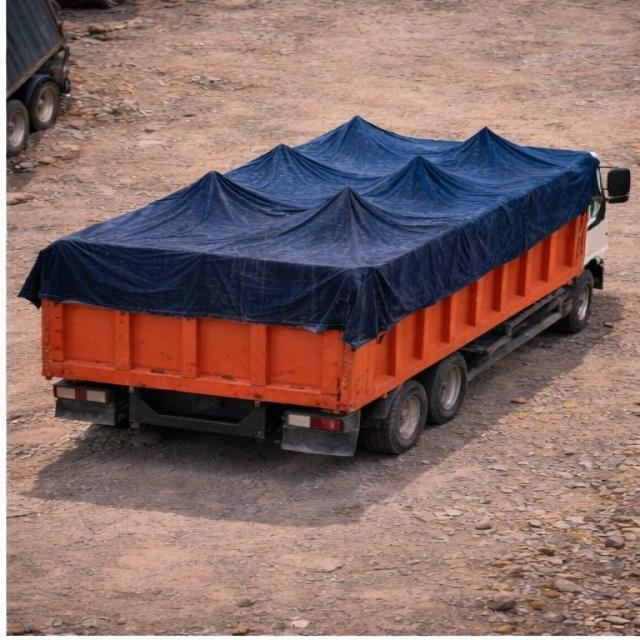trailer: (39, 116, 604, 344)
truck: (19, 109, 636, 454)
